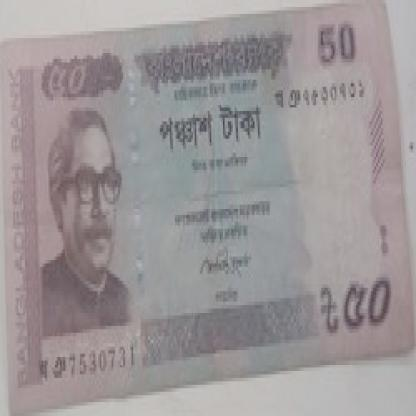Fifty taka: (36, 59, 134, 142), (339, 277, 401, 350)
